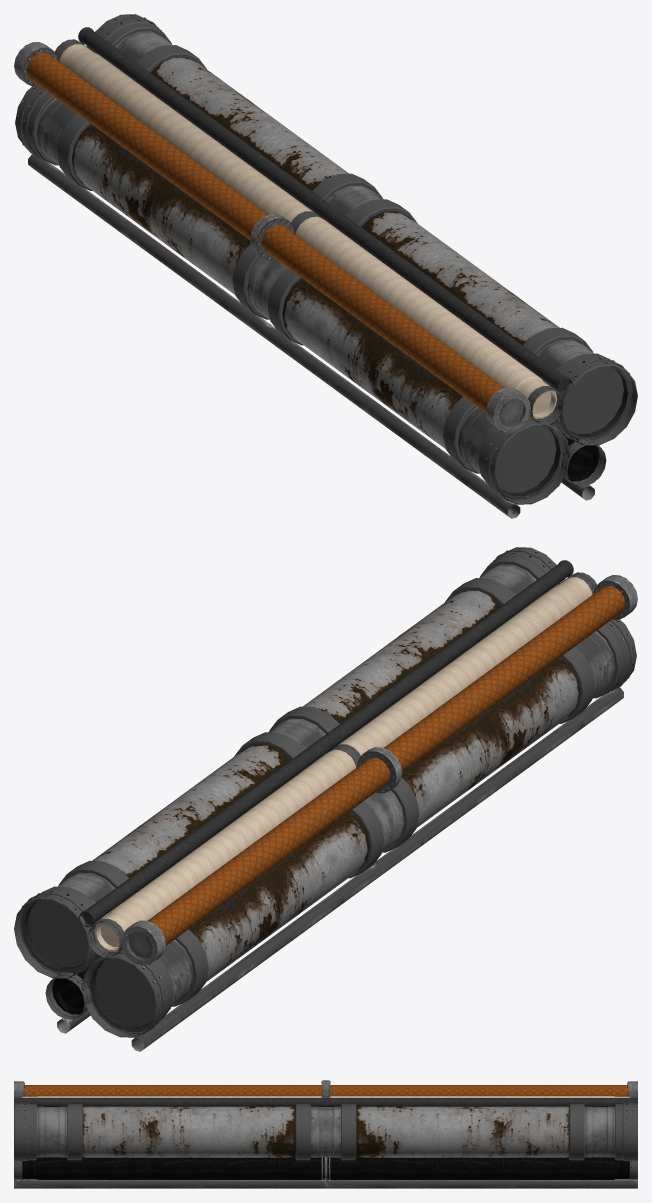
Rendered from Sci-Fi Pipeline.fbx.
3 views of the same model, one above another, from view 1: azimuth 30°, elevation 25°; view 2: azimuth 150°, elevation 25°; view 3: azimuth 270°, elevation 25° (orthographic). The views are drawn at different scales.
Visible parts, largest first — view 1: PipeLine; view 2: PipeLine; view 3: PipeLine.
Boxes of the visible parts, x1,y1,x2,y2 form: PipeLine: [14, 14, 637, 518]; PipeLine: [14, 547, 637, 1051]; PipeLine: [14, 1080, 637, 1188].
Size of the model in its own units: 217 by 188 by 1230.
